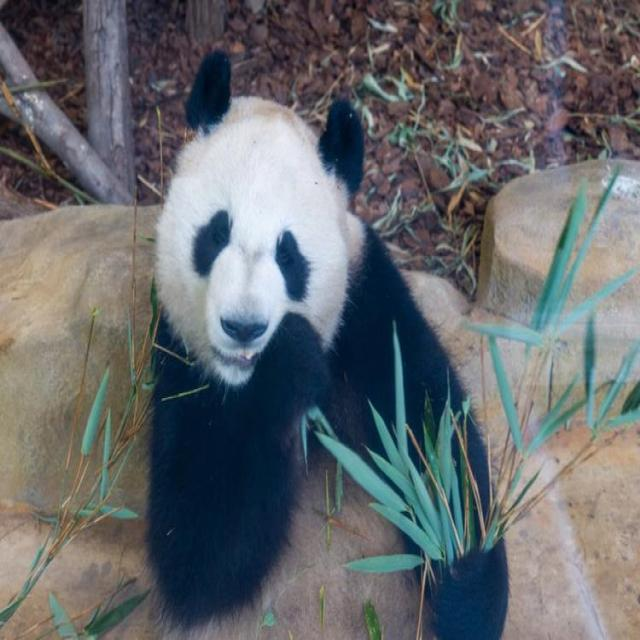panda: (139, 41, 510, 640)
